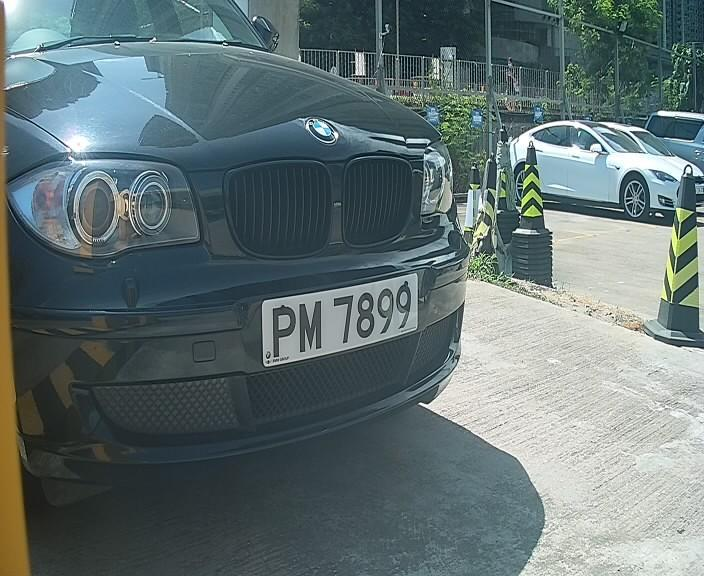privatecar: (1, 13, 491, 492)
